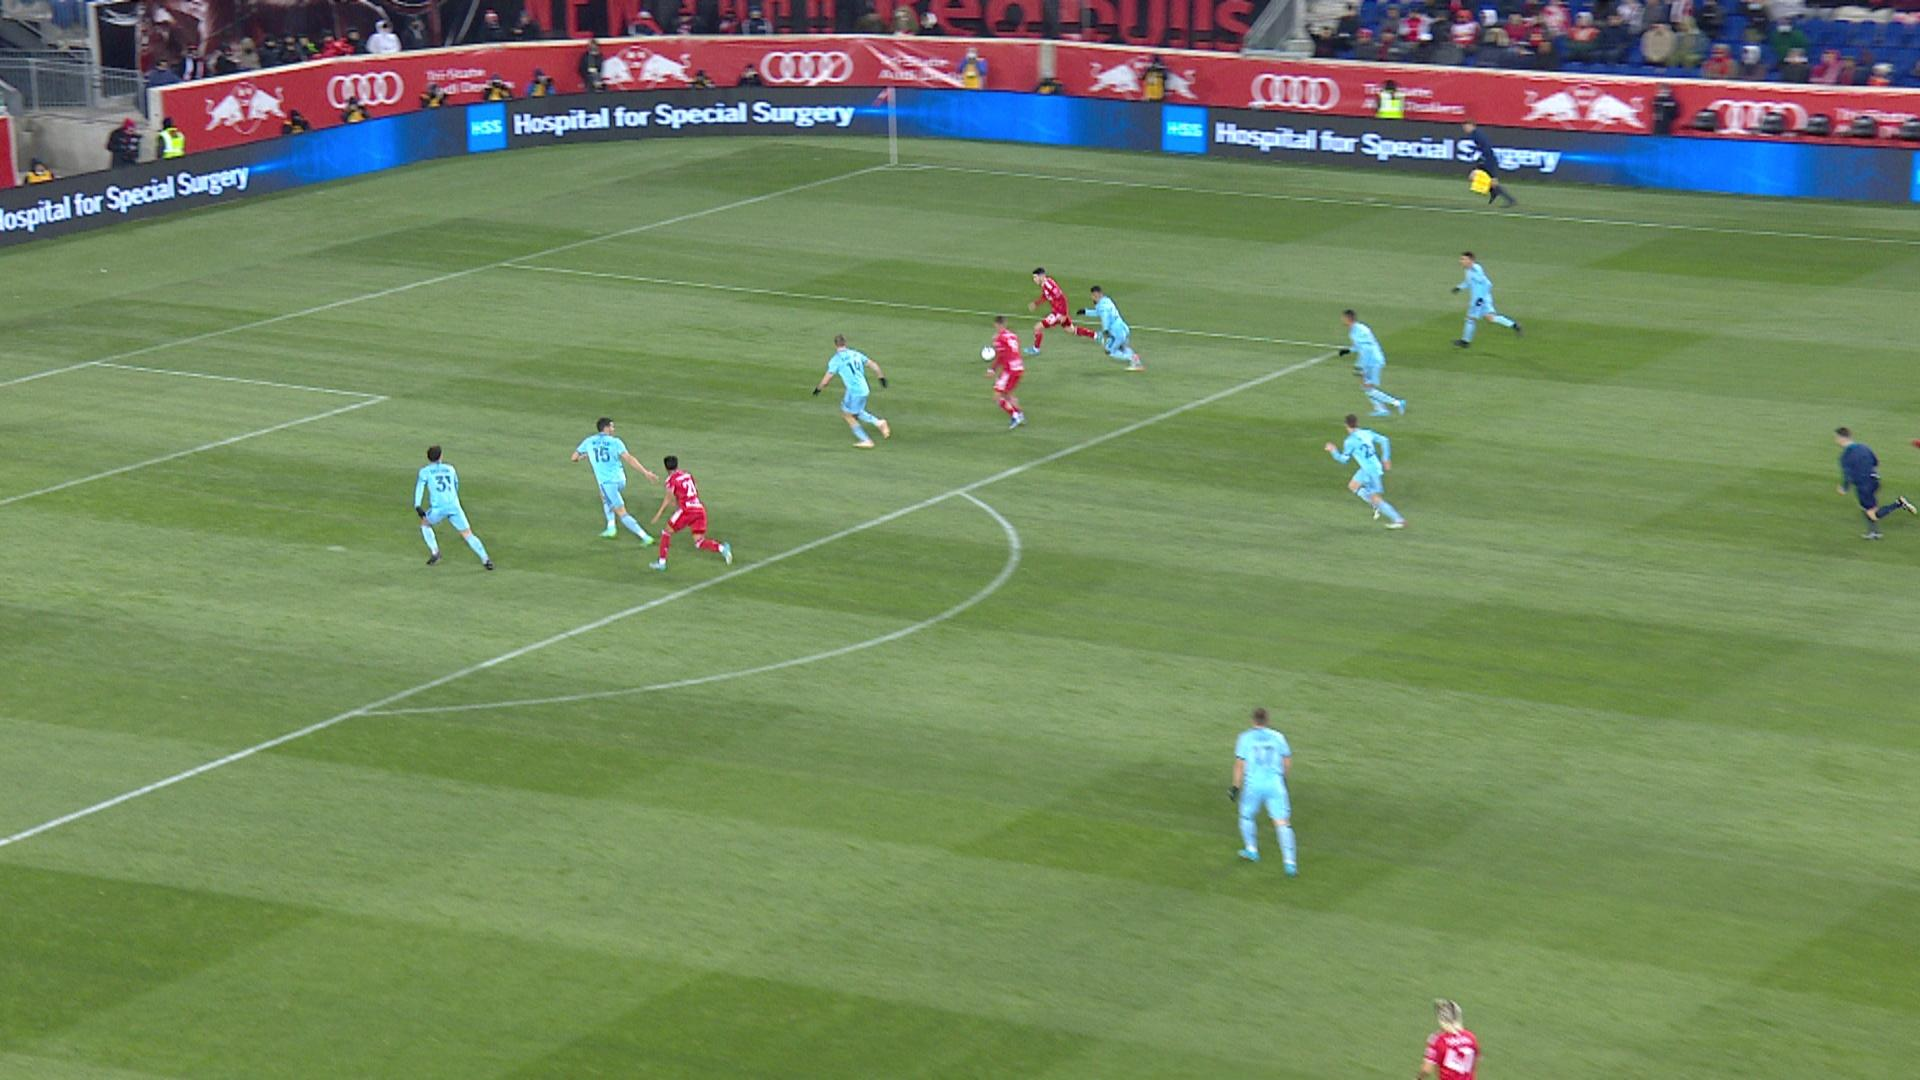football: (980, 346, 993, 361)
